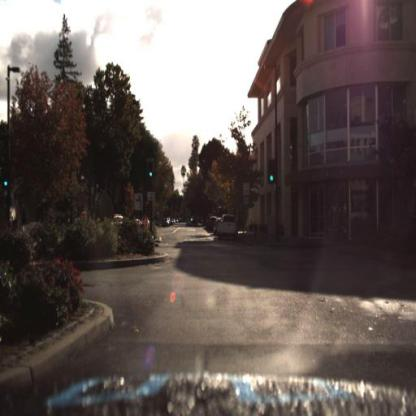car: (219, 209, 240, 239)
pedestrian: (335, 204, 345, 246)
trafficLight: (144, 162, 156, 188), (269, 151, 279, 177)
trafficLight-Green: (148, 156, 155, 181)
